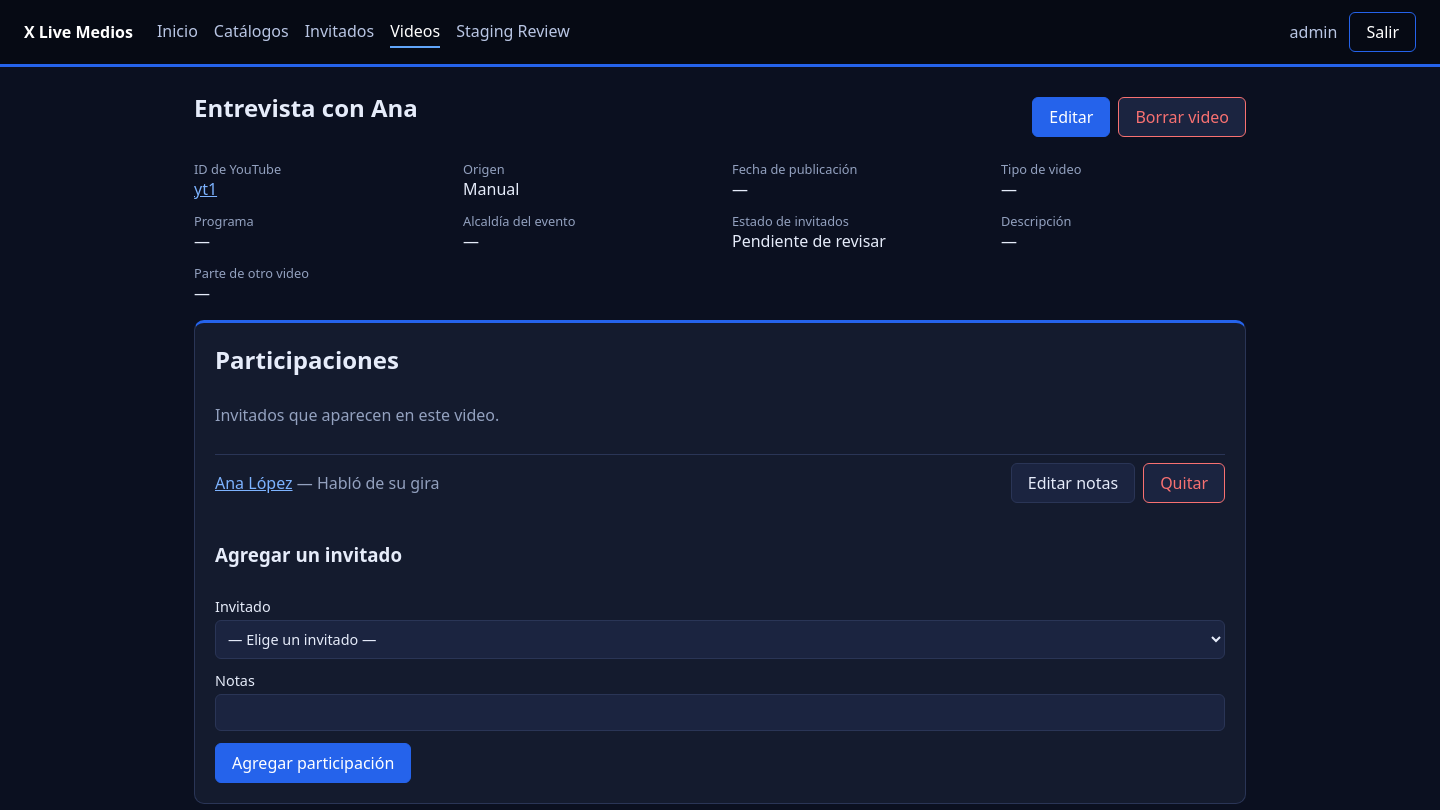
Test: Participaciones desde el video › editar las notas envía PATCH y se puede dejar vacío (null)
Click the button with aria-label "Editar notas de Ana López": (1073, 483) [1011,463,1135,503]
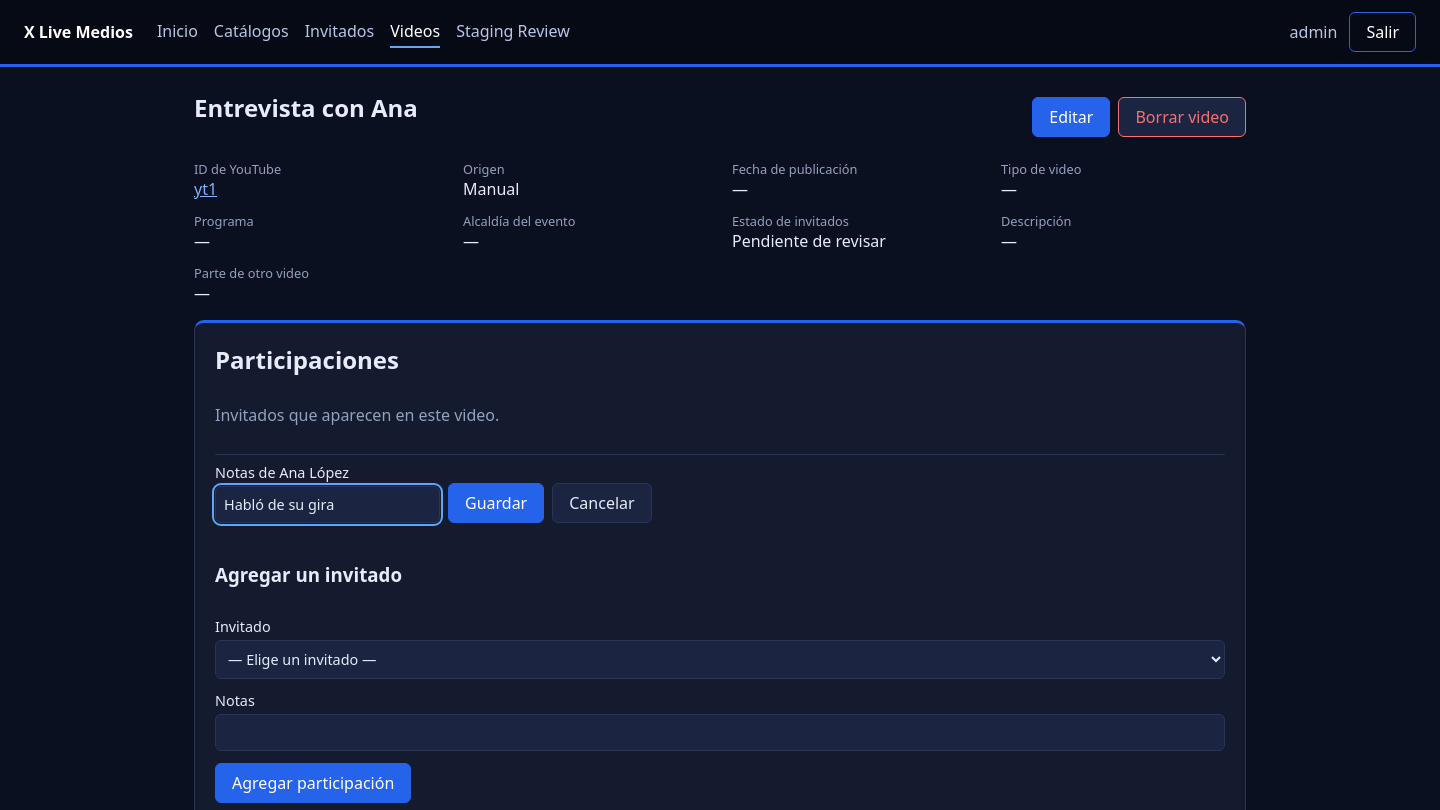
Expected: the field labelled "Notas de Ana López" holds "Habló de su gira"
Replace the text in the field labelled "Notas de Ana López" with "Nueva nota": (328, 504) [215,486,440,523]
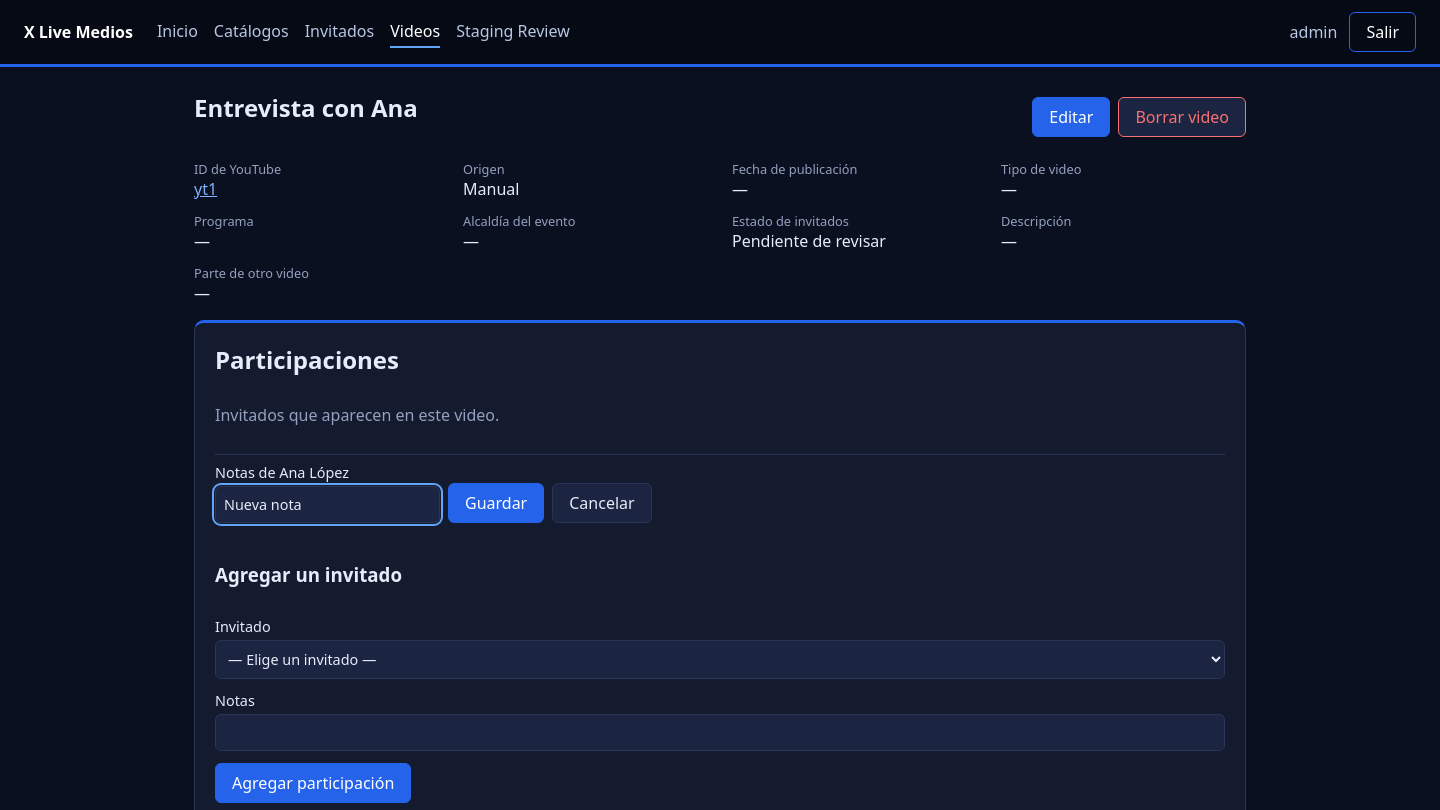
Click the button "Guardar": (496, 503) [448,483,544,523]
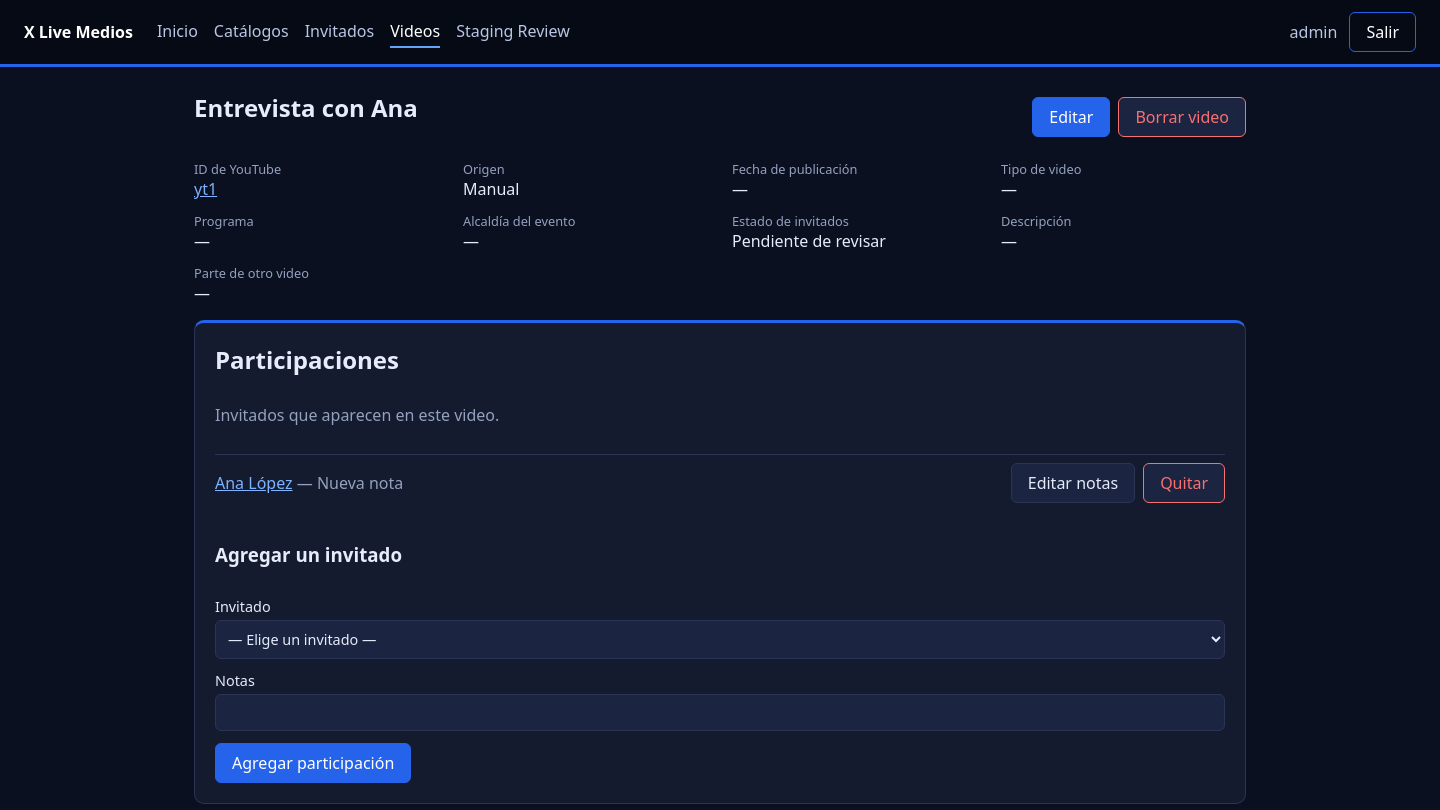
Expected: the text "— Nueva nota" is shown, [292,472,403,494]
Click the button with aria-label "Editar notas de Ana López": (1073, 483) [1011,463,1135,503]
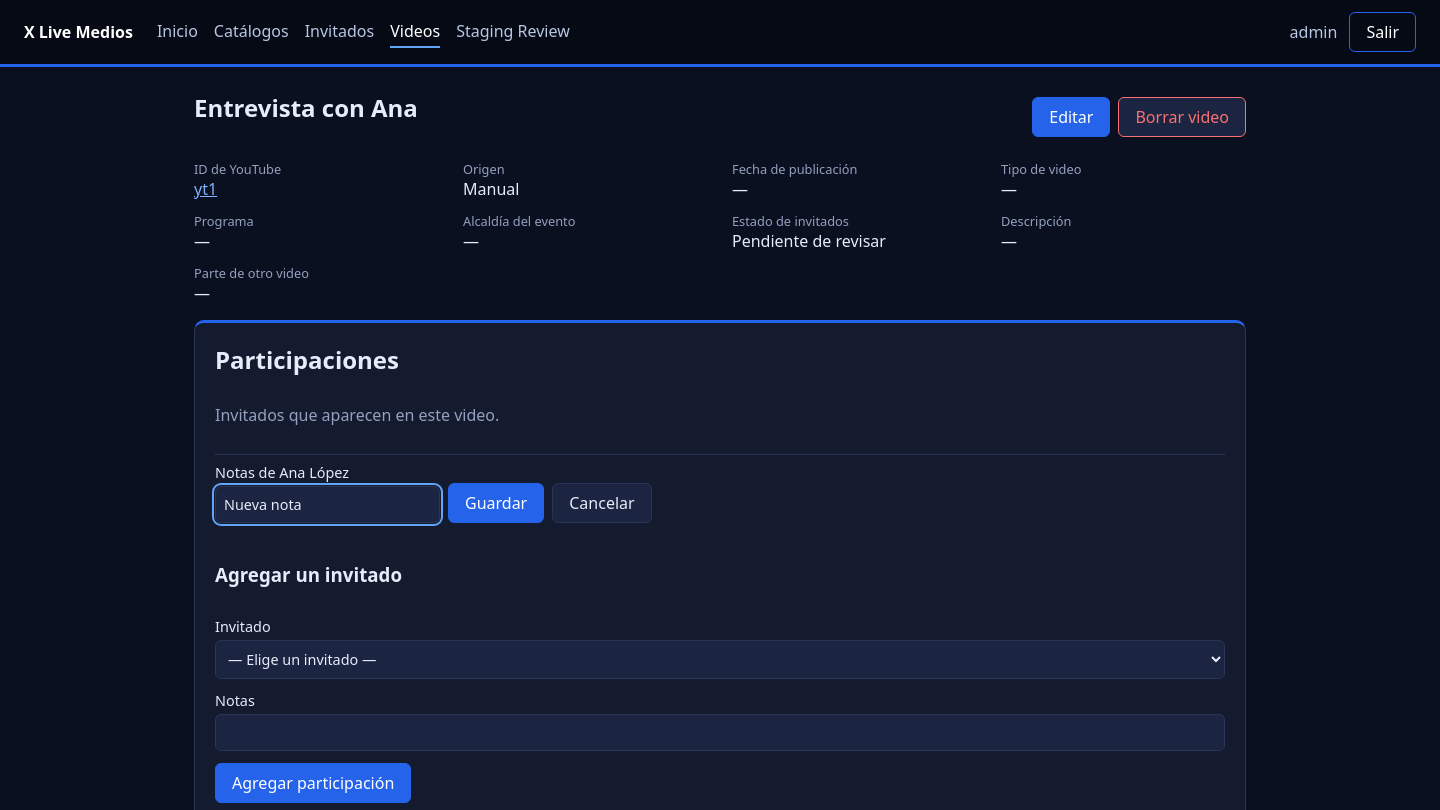
Clear the field labelled "Notas de Ana López": (328, 504) [215,486,440,523]
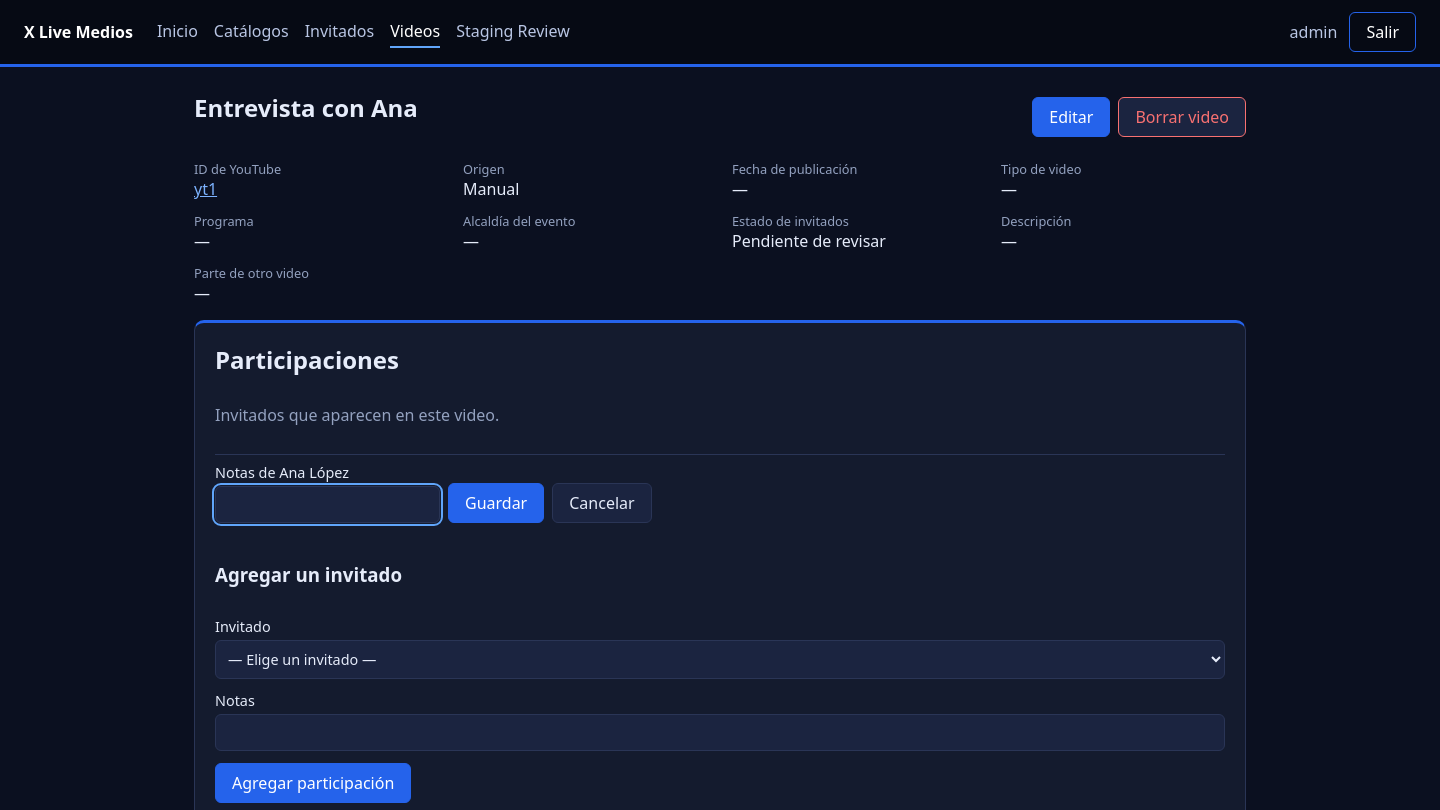
Click the button "Guardar": (496, 503) [448,483,544,523]
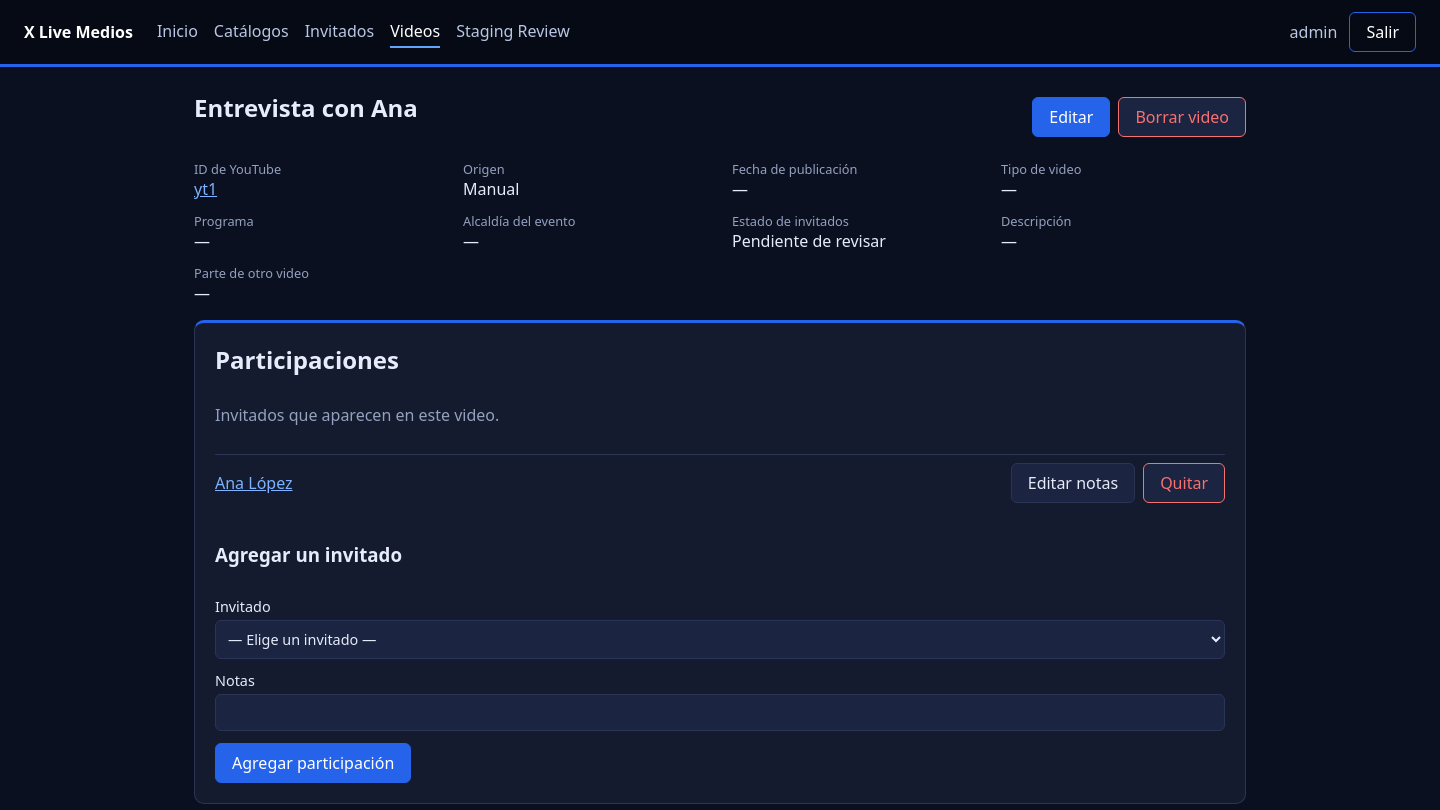
Expected: the button with aria-label "Editar notas de Ana López" is shown, [1011,463,1135,503]
